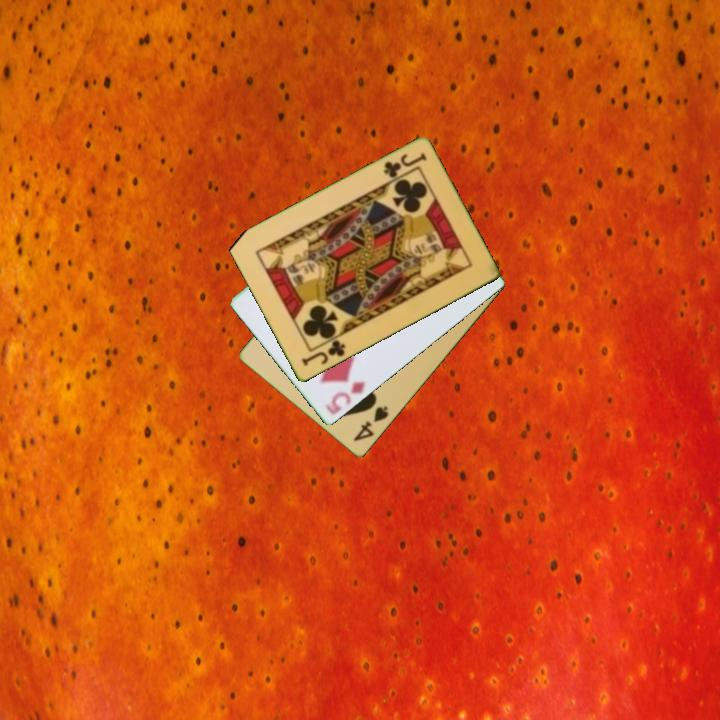4s: (350, 403, 391, 445)
5d: (322, 378, 368, 418)
Jc: (298, 337, 349, 370), (380, 150, 429, 181)
